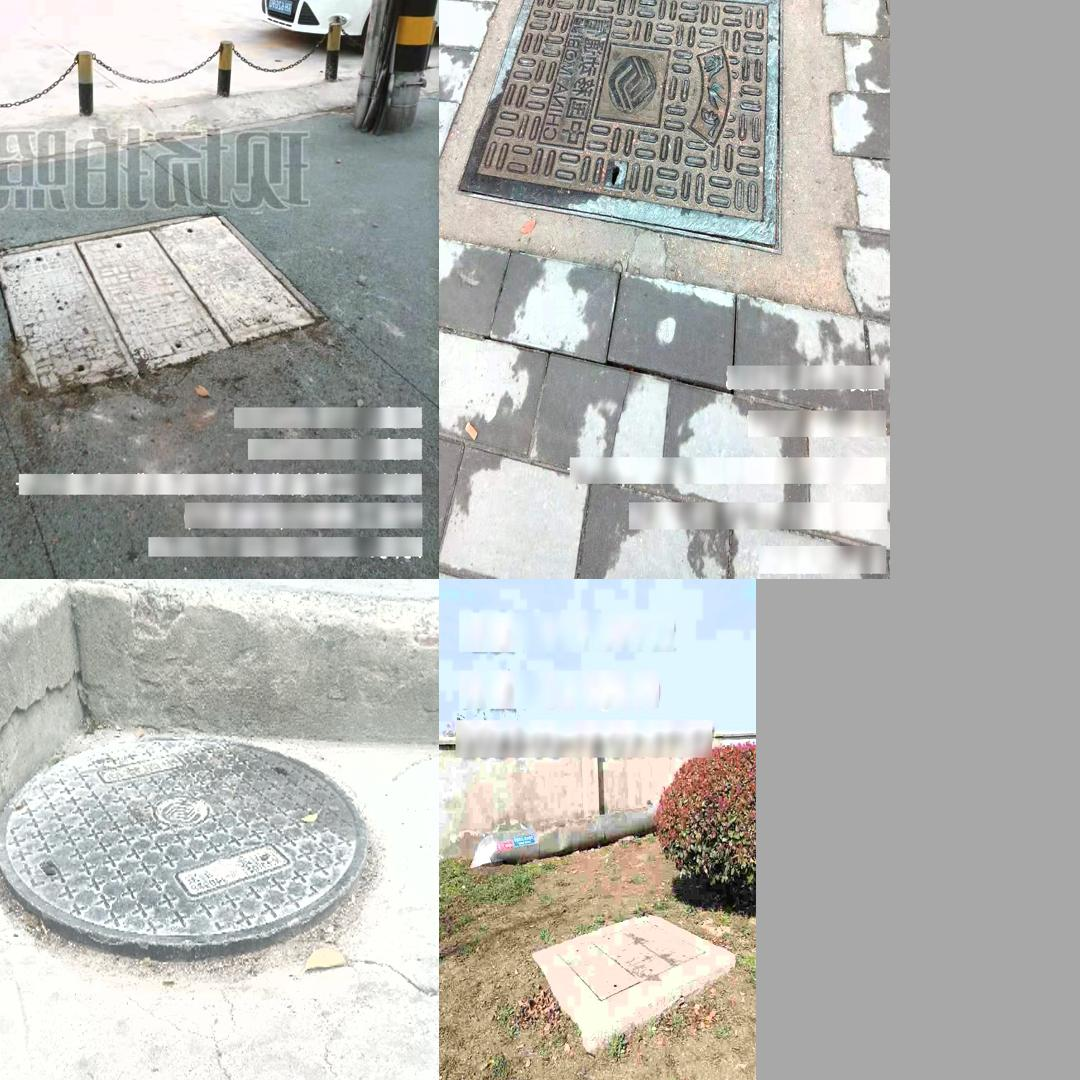good: (450, 0, 795, 244), (0, 737, 368, 962), (0, 212, 328, 398), (554, 919, 707, 1005)
